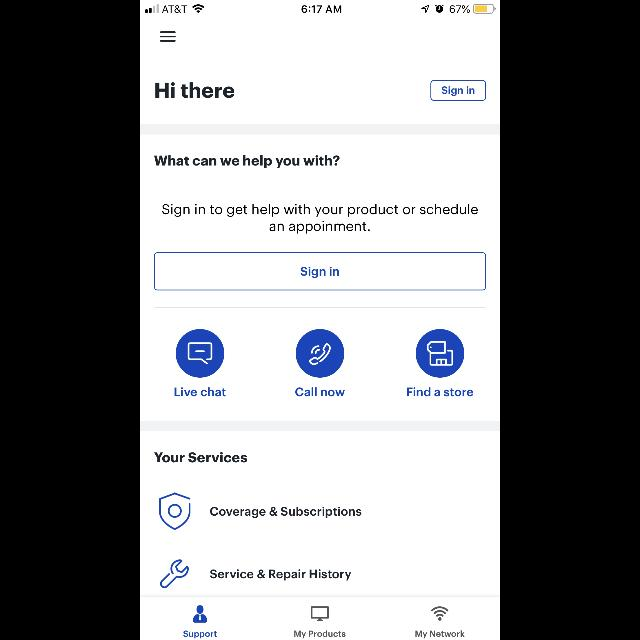icon: (176, 328, 224, 378), (193, 606, 207, 622), (160, 32, 176, 42)
image: (296, 329, 344, 377), (416, 329, 464, 377), (160, 492, 190, 530), (160, 560, 190, 588), (311, 606, 329, 622), (432, 606, 448, 620)
text: (162, 204, 478, 234), (154, 156, 340, 168), (210, 507, 362, 518), (210, 570, 352, 580), (156, 82, 234, 98), (154, 452, 248, 462), (407, 388, 473, 397), (174, 388, 226, 397), (295, 388, 345, 397), (294, 630, 346, 638), (416, 630, 464, 638), (184, 631, 216, 639)
textbutton: (154, 252, 486, 290), (430, 80, 486, 102)
uppertaskbar: (140, 0, 500, 14)
